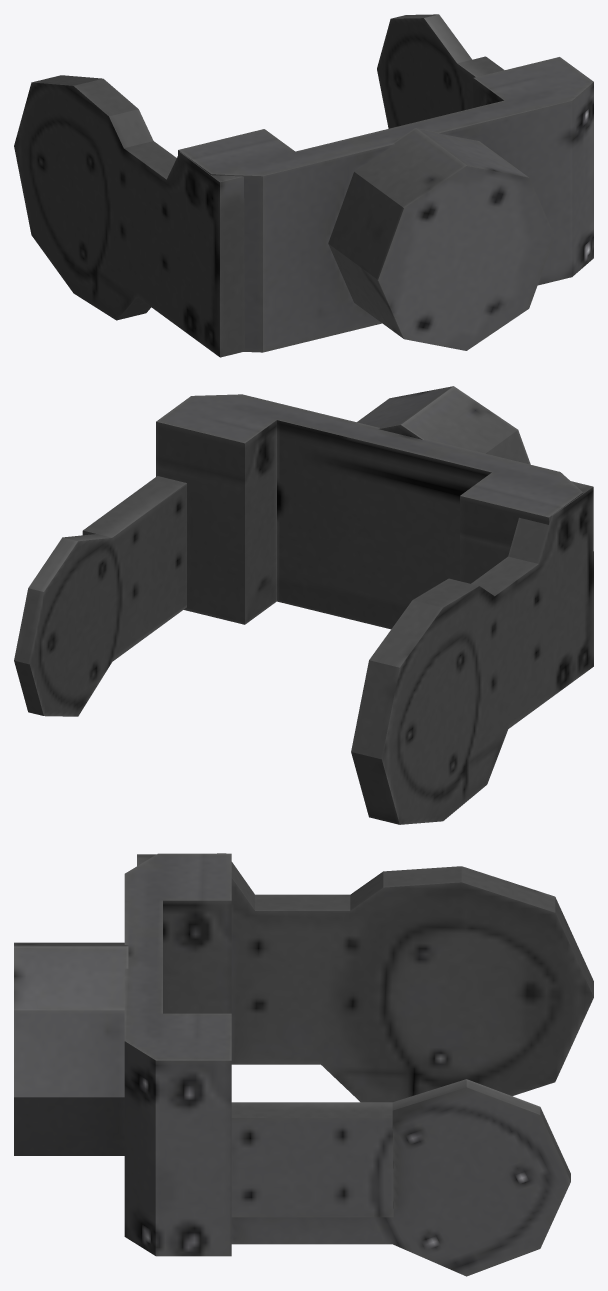
Rendered from r_hand.dae.
The picture shows the model from 3 angles, top to bottom: view 1: azimuth 30°, elevation 25°; view 2: azimuth 150°, elevation 25°; view 3: azimuth 270°, elevation 25°; orthographic projection. The views are drawn at different scales.
Parts seen in each view (by area): view 1: drc_r_hand; view 2: drc_r_hand; view 3: drc_r_hand.
Part boxes in pixels (x1,y1,x2,y2): drc_r_hand: (14,14,593,357); drc_r_hand: (14,386,593,824); drc_r_hand: (14,853,593,1276).
Bounding box in the file's own units: 0.1348 × 0.1595 × 0.077.
Materials: 1 (1 with a texture image).
